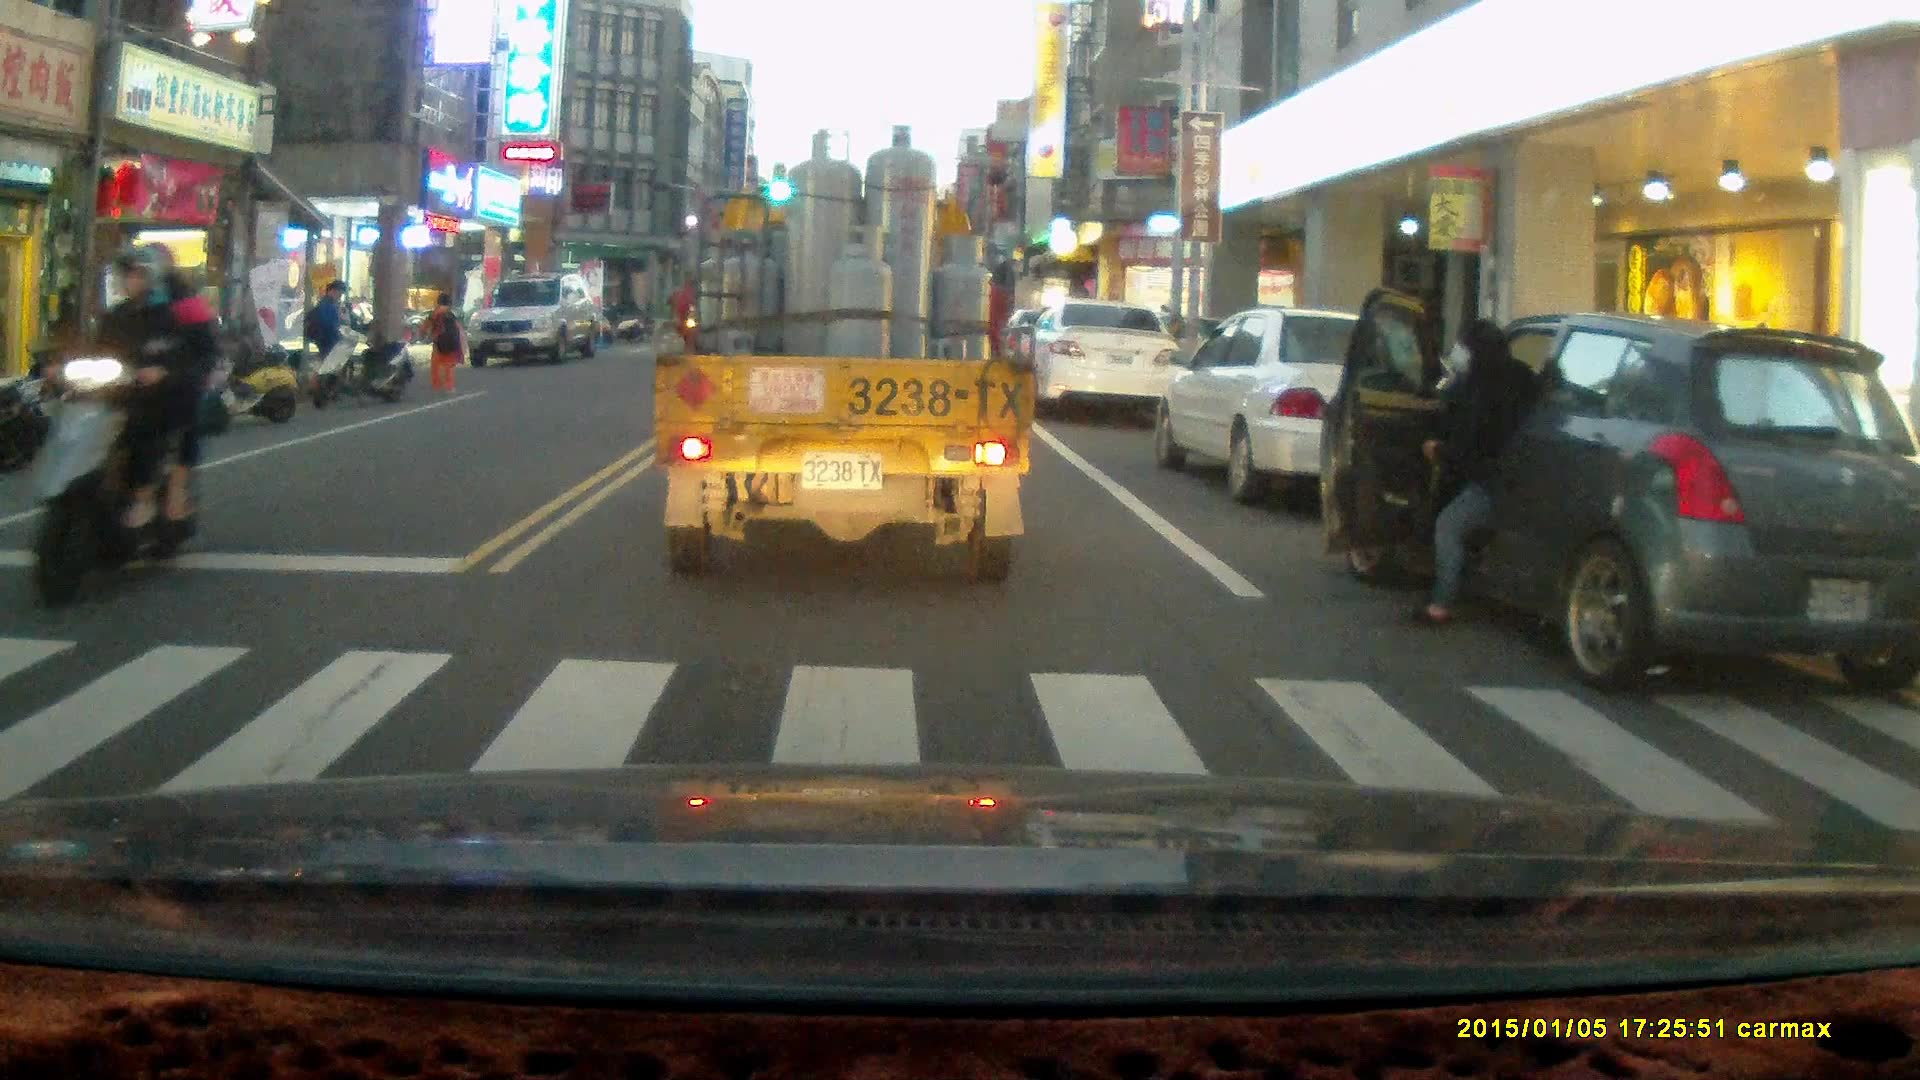pedestrian: (1401, 311, 1535, 632), (412, 288, 463, 390), (304, 277, 347, 397)
rider: (21, 241, 217, 611)
vehicle: (1329, 315, 1920, 699), (650, 122, 1040, 586), (1167, 312, 1496, 508), (1016, 298, 1184, 421), (465, 278, 609, 367)
